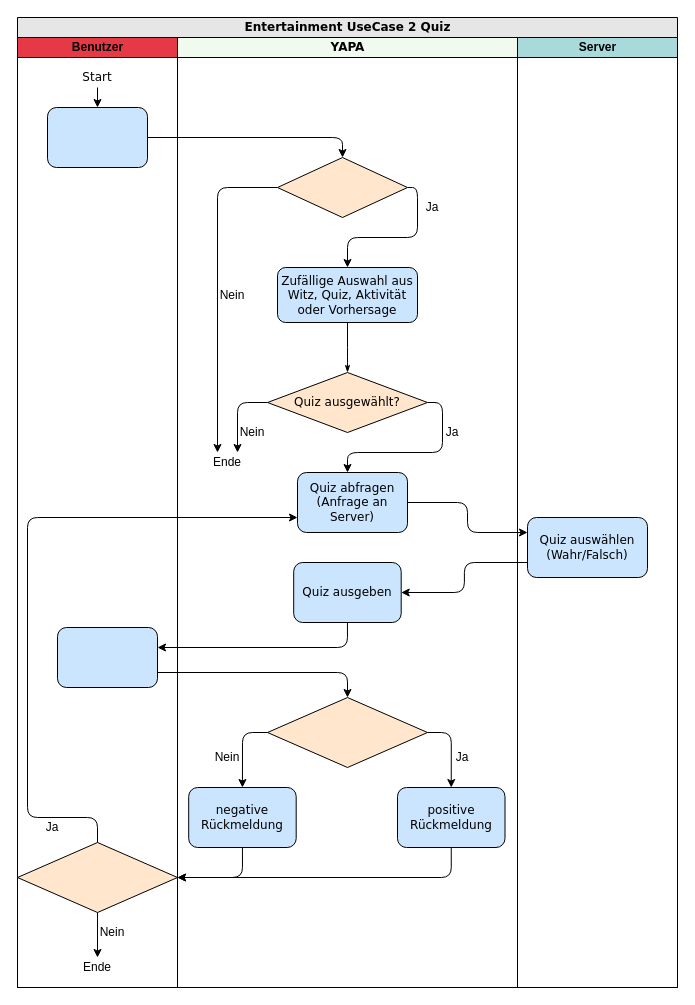
The diagram is 695 pixels wide and 1005 high, and some of its shapes have lost their labels. The shapes that lost their labels are listed below. From the top down, each one's centre as x and y in pixels, then its label:
At (97,137): "Anfrage".
At (342,187): "Fällt Schlagwort?".
At (107,657): "Antwort Wahr/Falsch".
At (347,732): "Antwort korrekt?".
At (97,877): "Weiteres Quiz erwünscht?".
